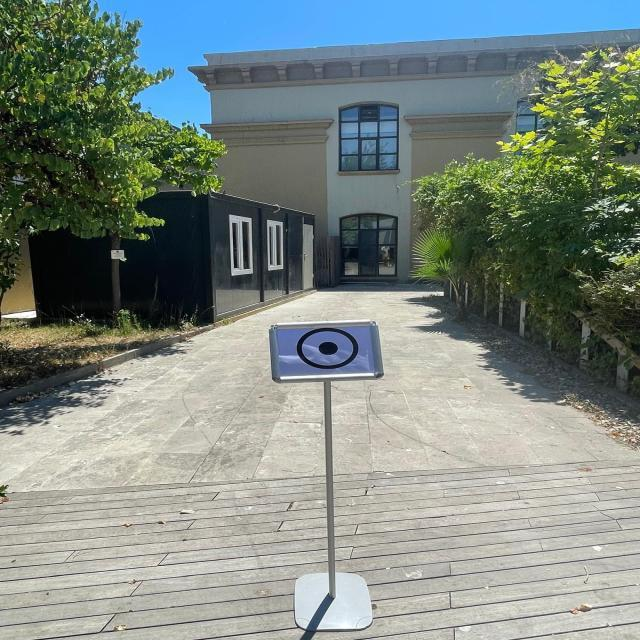Target: (263, 318, 395, 385)
inner: (318, 338, 339, 358)
